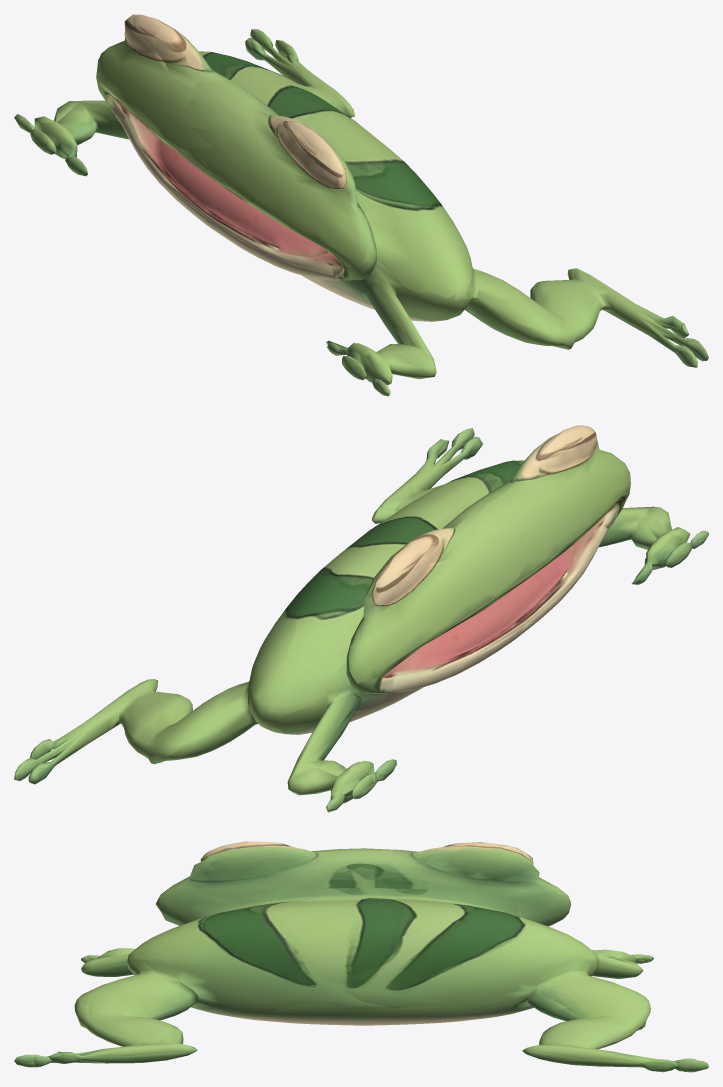
3 renders of one model, top to bottom at view 1: azimuth 30°, elevation 25°; view 2: azimuth 150°, elevation 25°; view 3: azimuth 270°, elevation 25°, orthographic. The views are drawn at different scales.
Visible parts, largest first — view 1: node_0; view 2: node_0; view 3: node_0.
Boxes of the visible parts, x1,y1,x2,y2 form: node_0: (14,14,708,396); node_0: (14,425,708,812); node_0: (14,841,708,1072).
Bounding box in the file's own units: 0.387 × 0.2442 × 1.05.
Materials: 1 (1 with a texture image).
